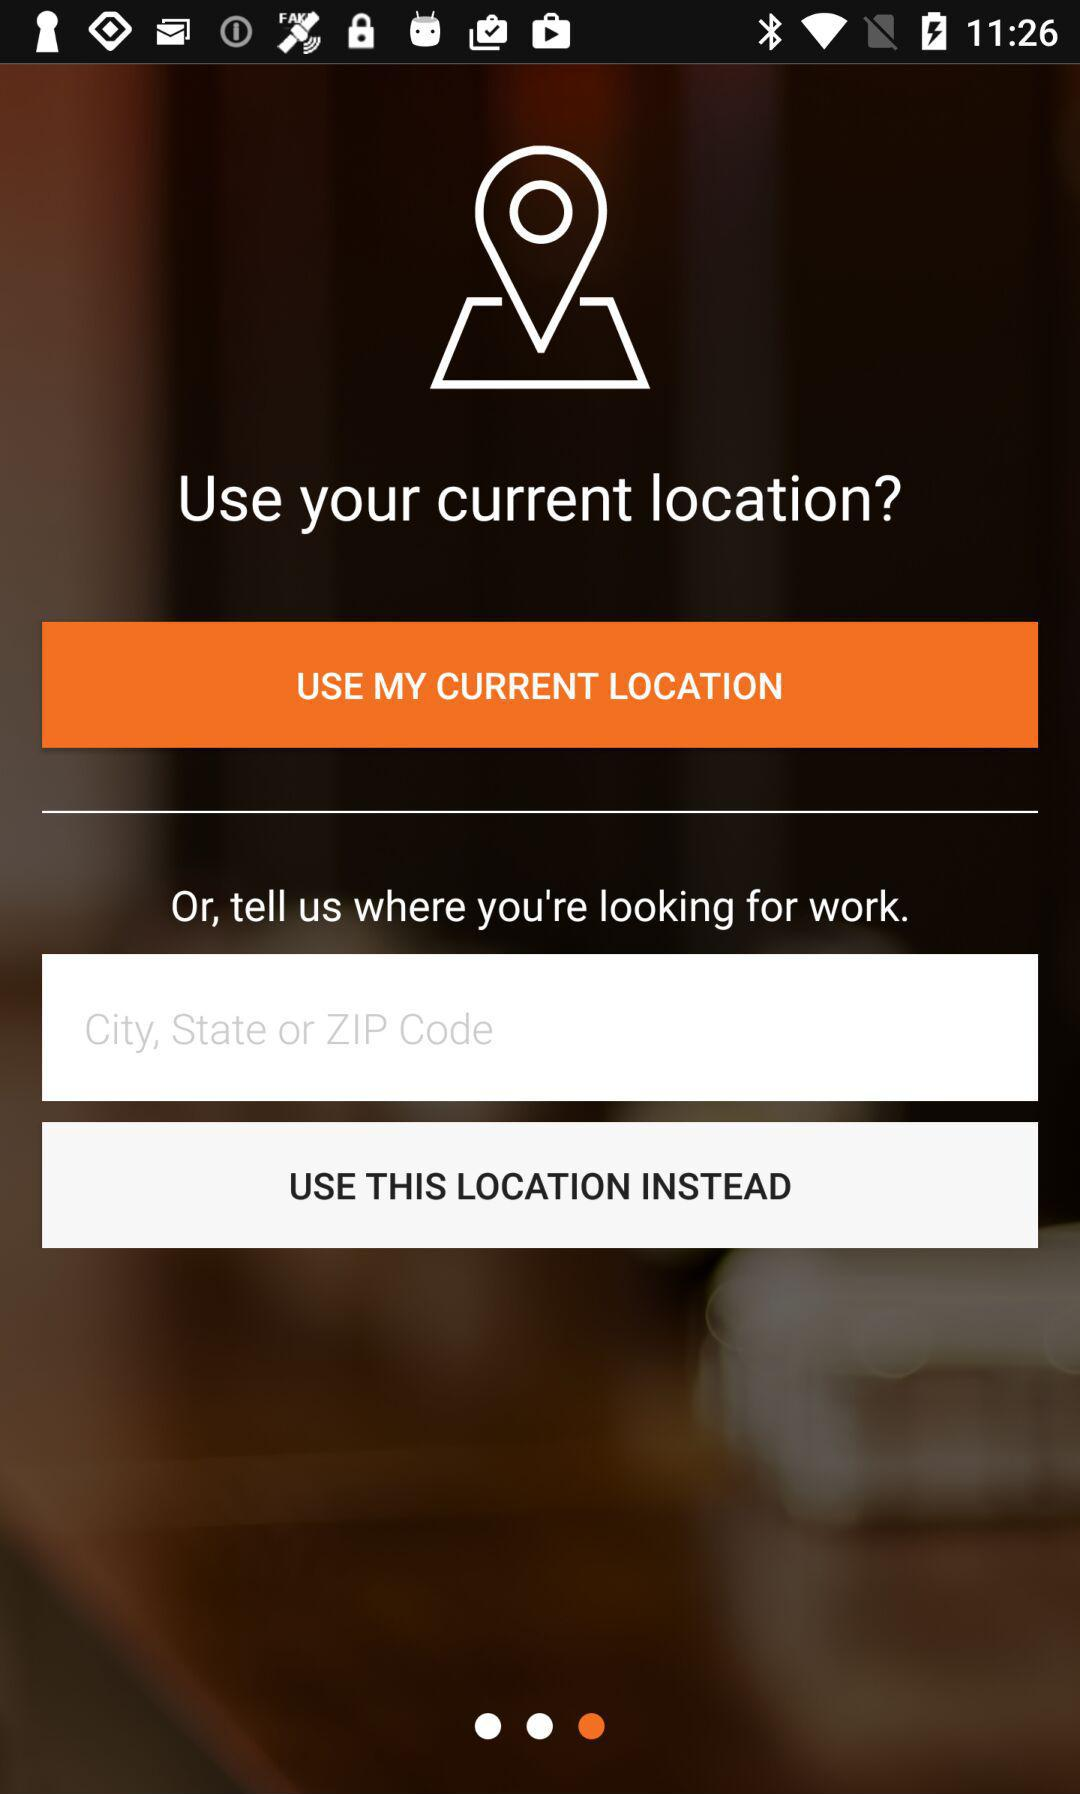BackgroundImage: (1, 64, 1080, 1794)
EditText: (42, 953, 1039, 1102)
Icon: (428, 144, 652, 392)
PageIndicator: (473, 1711, 607, 1741)
Text: (42, 621, 1038, 750), (178, 472, 902, 532), (172, 888, 910, 932), (86, 1011, 495, 1055)
TextButton: (42, 1123, 1039, 1249)
UpperTaskBar: (1, 1, 1080, 64)
